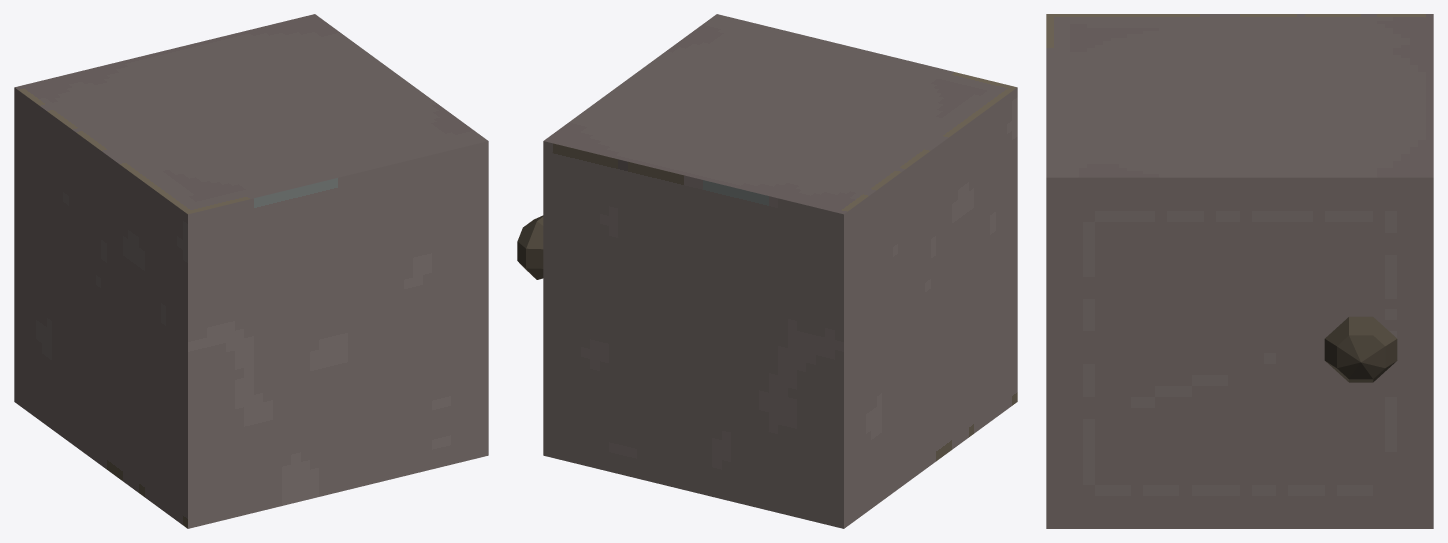
File: small_cabinet.glb
The picture shows the model from 3 angles, left to right: view 1: azimuth 30°, elevation 25°; view 2: azimuth 150°, elevation 25°; view 3: azimuth 270°, elevation 25°; orthographic projection. The views are drawn at different scales.
Visible parts, largest first — view 1: Mesh_0.019; view 2: Mesh_0.019; view 3: Mesh_0.019.
Boxes of the visible parts, <box> form: Mesh_0.019: <box>14,14,488,528</box>; Mesh_0.019: <box>517,14,1017,528</box>; Mesh_0.019: <box>1046,14,1433,528</box>.
Bounding box in the file's own units: 4.76 × 4 × 4.
1 material, 1 textured.
